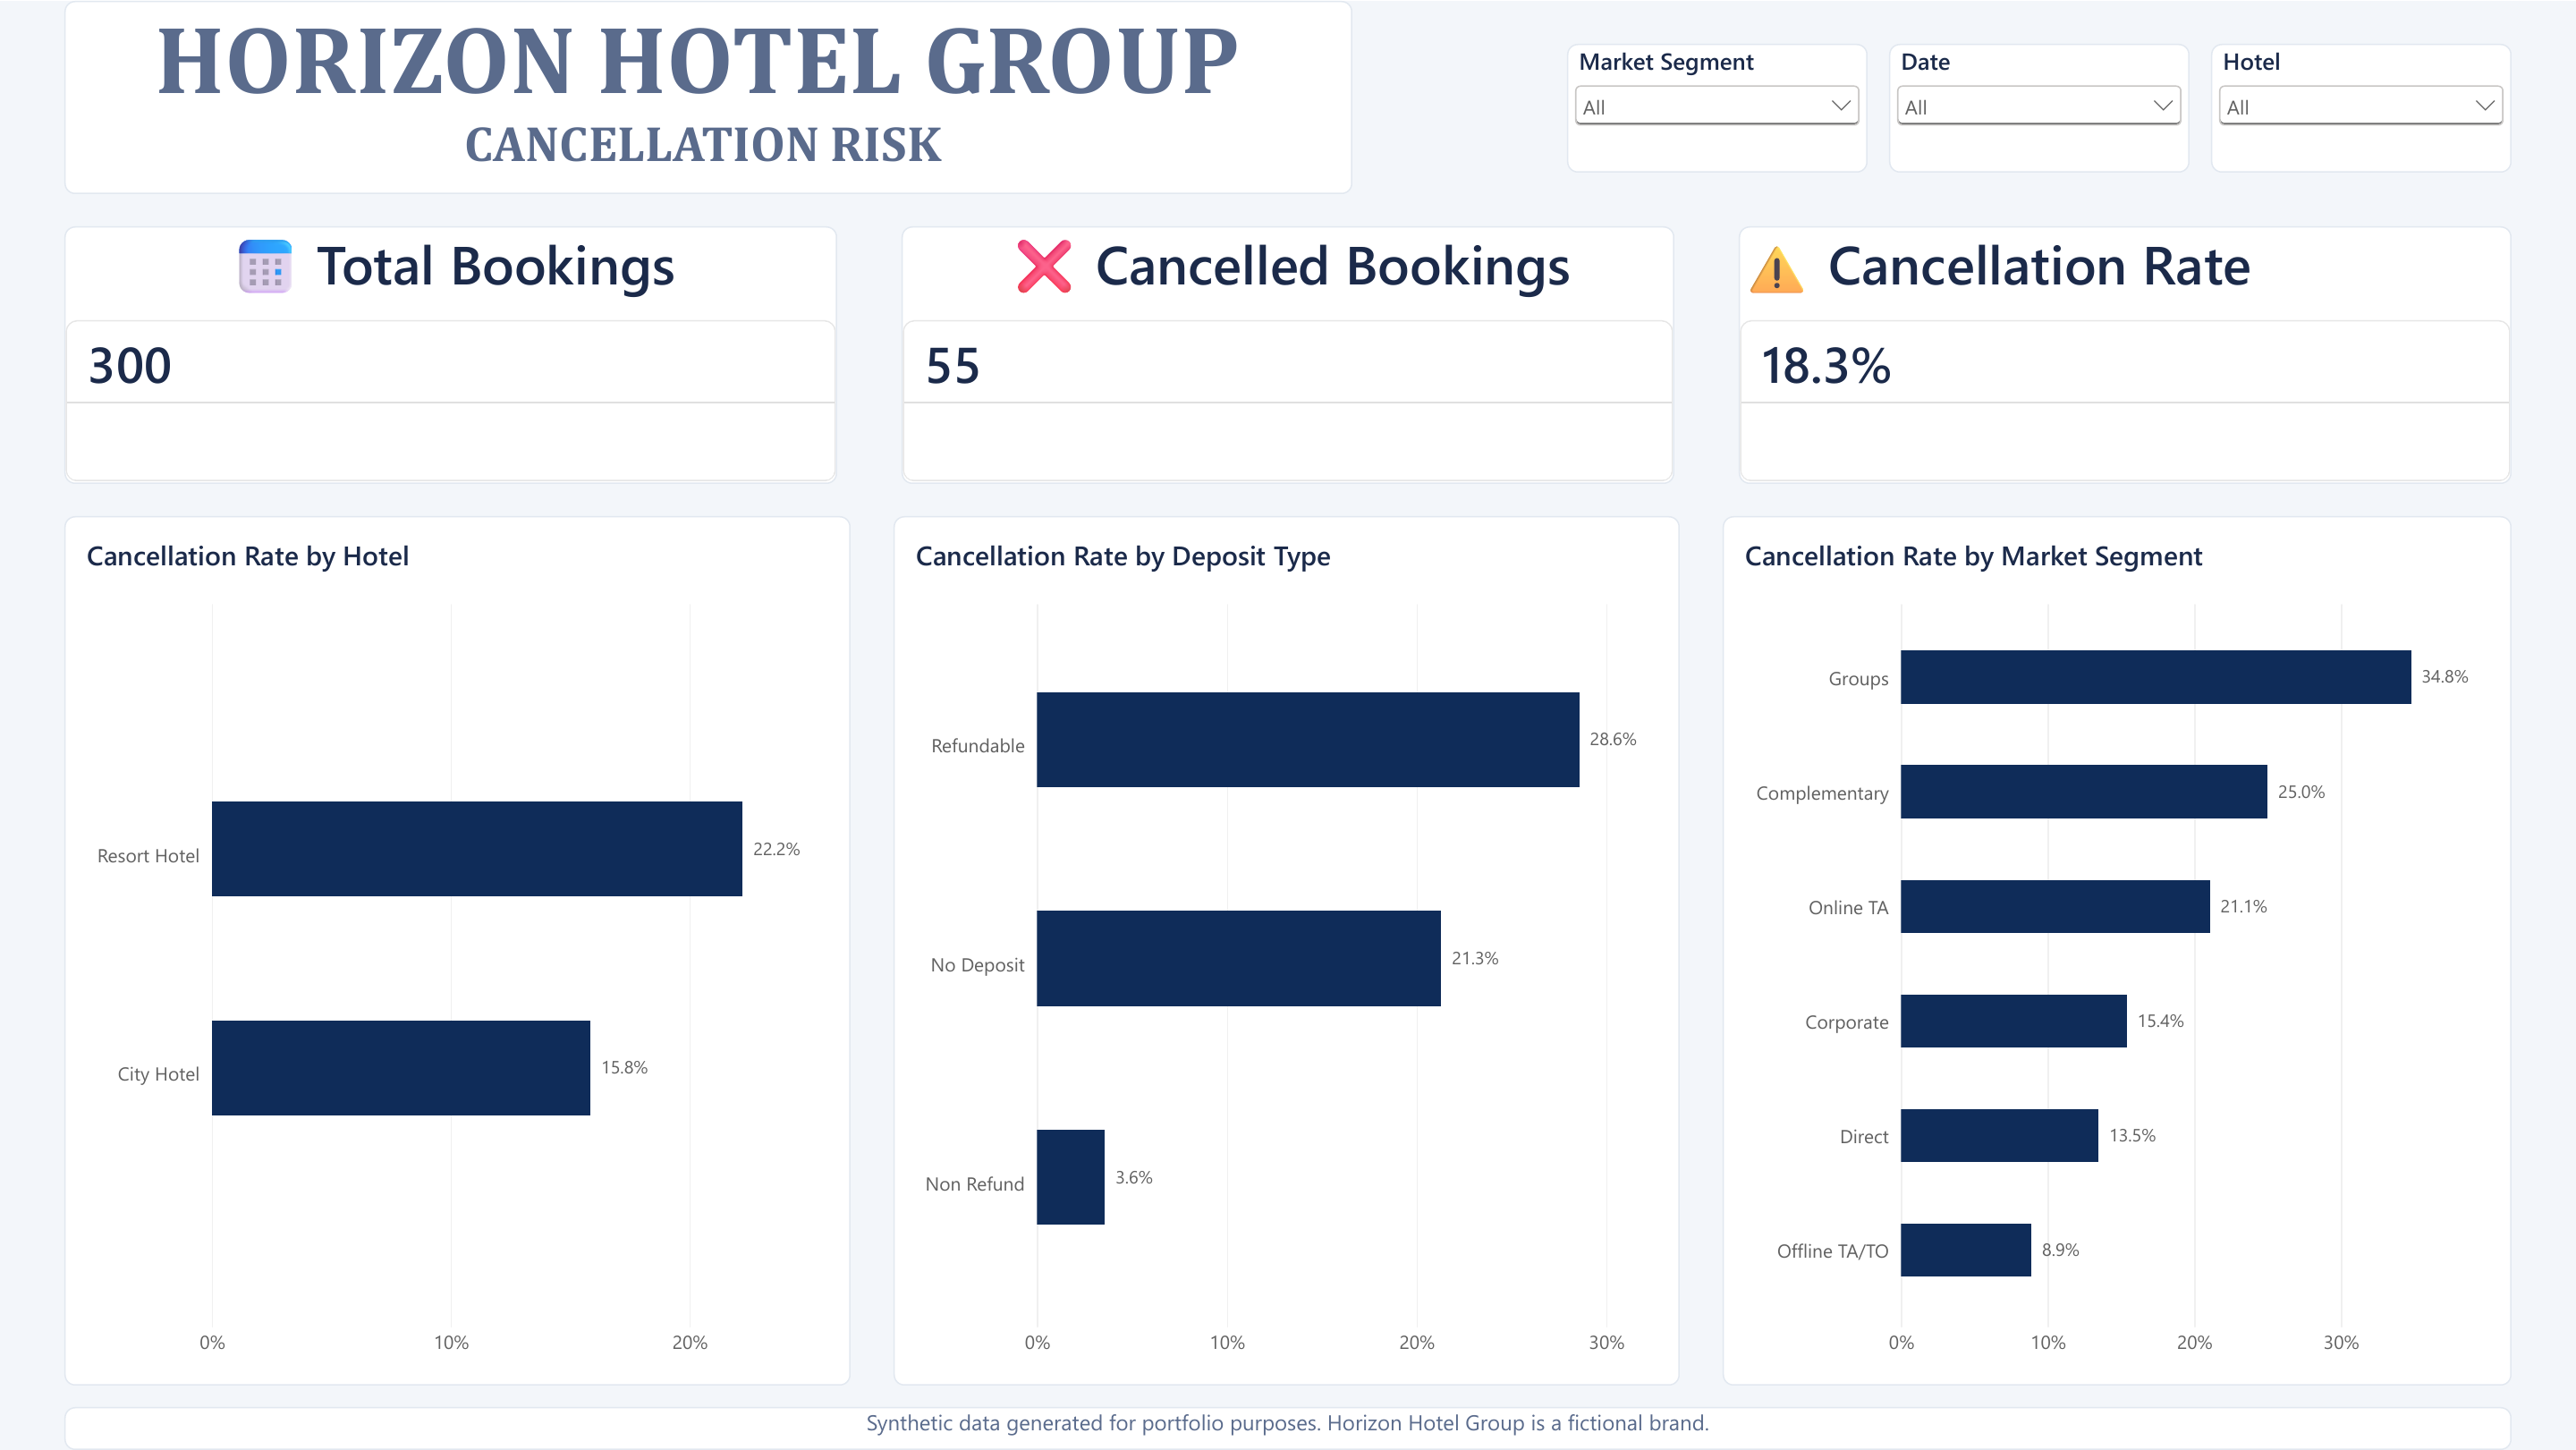

The page's visual inventory and layout, read from the dashboard file:
{"tool":"powerbi","page":{"name":"Cancellation Risk","canvas":[1920,1080],"ordinal":1},"visuals":[{"type":"clusteredBarChart","title":"Cancellation Rate by Hotel","fields":{"Category":["hotel_bookings.hotel"],"Y":["hotel_bookings.Cancellation Rate%"]},"box":[48,384,586,648],"z":1000},{"type":"clusteredBarChart","title":"Cancellation Rate by Deposit Type","fields":{"Category":["hotel_bookings.deposit_type"],"Y":["hotel_bookings.Cancellation Rate%"]},"box":[666,384,586,648],"z":2000},{"type":"clusteredBarChart","title":"Cancellation Rate by Market Segment","fields":{"Category":["hotel_bookings.market_segment"],"Y":["hotel_bookings.Cancellation Rate%"]},"box":[1284,384,588,648],"z":3000},{"type":"cardVisual","title":"📅 Total Bookings","fields":{"Data":["hotel_bookings.Total Bookings"]},"box":[48,168,576,192],"z":4000},{"type":"cardVisual","title":"❌ Cancelled Bookings","fields":{"Data":["hotel_bookings.Cancelled Bookings"]},"box":[672,168,576,192],"z":5000},{"type":"cardVisual","title":"⚠️ Cancellation Rate","fields":{"Data":["hotel_bookings.Cancellation Rate%"]},"box":[1296,168,576,192],"z":6000},{"type":"textbox","box":[48,0,960,144],"z":9000},{"type":"slicer","fields":{"Values":["hotel_bookings.market_segment"]},"box":[1168,32,224,96],"z":11000},{"type":"slicer","fields":{"Values":["hotel_bookings.arrival_date"]},"box":[1408,32,224,96],"z":11001},{"type":"slicer","fields":{"Values":["hotel_bookings.hotel"]},"box":[1648,32,224,96],"z":11002},{"type":"textbox","box":[48,1048,1824,32],"z":12000}]}

Visuals, with their boxes in screenshot pixels (x1, y1, x2, y2), scaled from the page's 1920x1080 canvas onto the 2576x1450 screenshot:
"Cancellation Rate by Hotel" clusteredBarChart: box(64, 515, 851, 1386)
"Cancellation Rate by Deposit Type" clusteredBarChart: box(894, 515, 1680, 1386)
"Cancellation Rate by Market Segment" clusteredBarChart: box(1723, 515, 2512, 1386)
"📅 Total Bookings" cardVisual: box(64, 225, 837, 483)
"❌ Cancelled Bookings" cardVisual: box(902, 225, 1674, 483)
"⚠️ Cancellation Rate" cardVisual: box(1739, 225, 2512, 483)
textbox: box(64, 0, 1352, 193)
slicer - hotel_bookings.market_segment: box(1567, 43, 1868, 172)
slicer - hotel_bookings.arrival_date: box(1889, 43, 2190, 172)
slicer - hotel_bookings.hotel: box(2211, 43, 2512, 172)
textbox: box(64, 1407, 2512, 1449)
